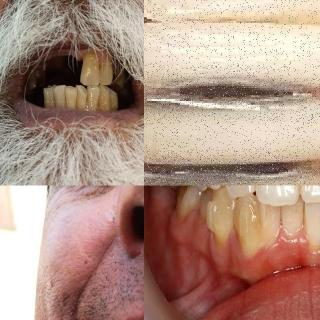Gum Swelling: (266, 226, 309, 256)
cavities: (147, 59, 311, 120), (144, 150, 302, 186), (112, 68, 122, 83)
maligned: (235, 193, 262, 257), (304, 191, 320, 255)
